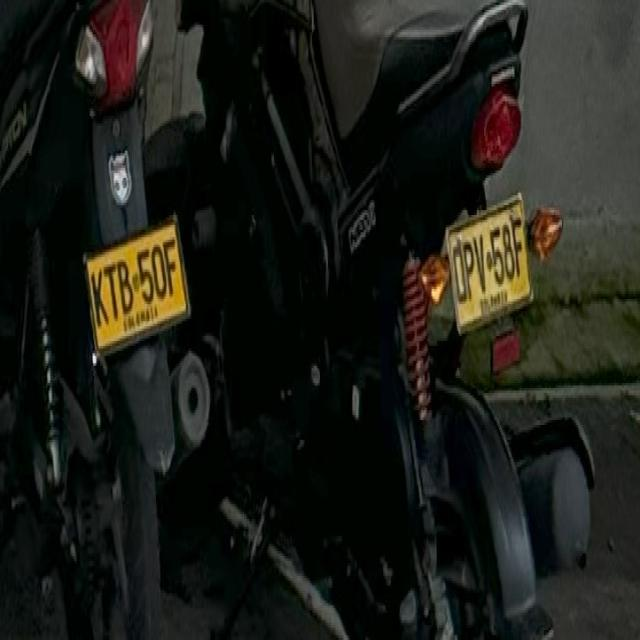number plate: (84, 215, 188, 348), (445, 190, 529, 329)
